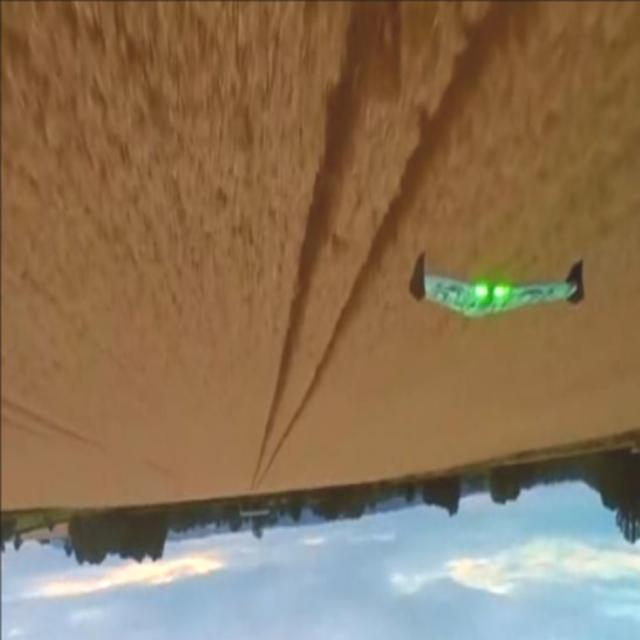plane: (414, 254, 585, 320)
